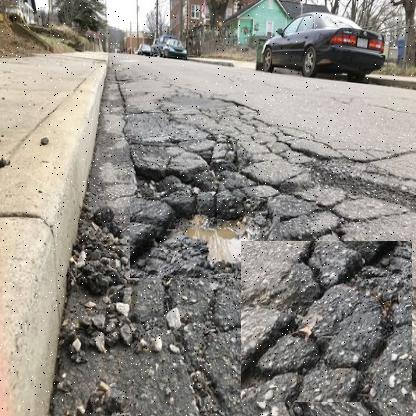crack: (242, 242, 414, 404), (278, 135, 403, 237), (132, 118, 264, 209)
pothole_water: (130, 197, 281, 279)
